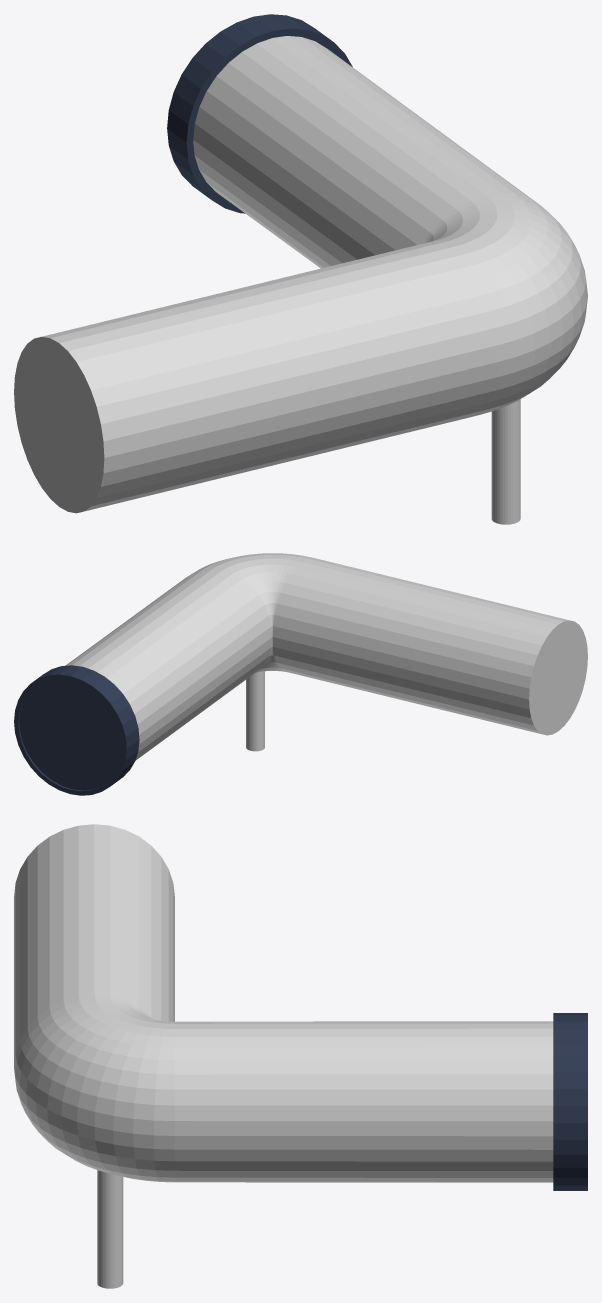
The model's file is Pipesegment_ecke-rechts-offen_blank.fbx.
The picture shows the model from 3 angles, top to bottom: view 1: azimuth 30°, elevation 25°; view 2: azimuth 150°, elevation 25°; view 3: azimuth 270°, elevation 25°; orthographic projection. The views are drawn at different scales.
Parts seen in each view (by area): view 1: Pipe-Segment_straight.001, Pipe-foot.001; view 2: Pipe-Segment_straight.001, Pipe-foot.001; view 3: Pipe-Segment_straight.001, Pipe-foot.001.
Part boxes in pixels (x1,y1,x2,y2): Pipe-Segment_straight.001: [14, 14, 587, 513]; Pipe-foot.001: [491, 399, 520, 524]; Pipe-Segment_straight.001: [14, 553, 587, 795]; Pipe-foot.001: [246, 671, 264, 751]; Pipe-Segment_straight.001: [14, 824, 587, 1190]; Pipe-foot.001: [97, 1170, 123, 1288].
Bounding box in the file's own units: 355 × 183 × 355.
